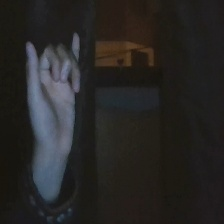Y: (18, 25, 101, 167)
